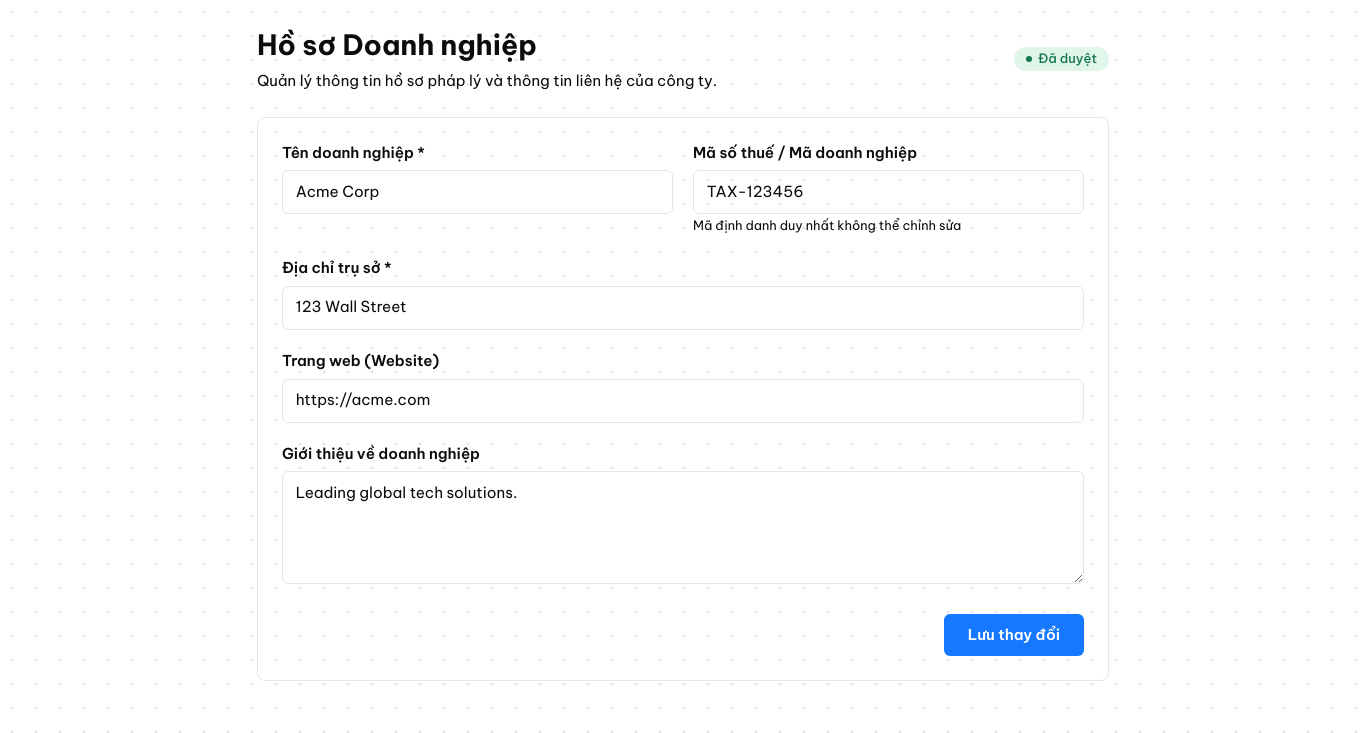
Test: CompanyDetailPage (UI16) › FE29 & BR01: handles 409 Conflict by preserving user input and offering reload
This screenshot has width=1366, height=733.
Replace the text in the field with test id "company-name-input" with "New Name Edited by User" at (478, 192), box top-left (282, 170), bottom-right (673, 214)
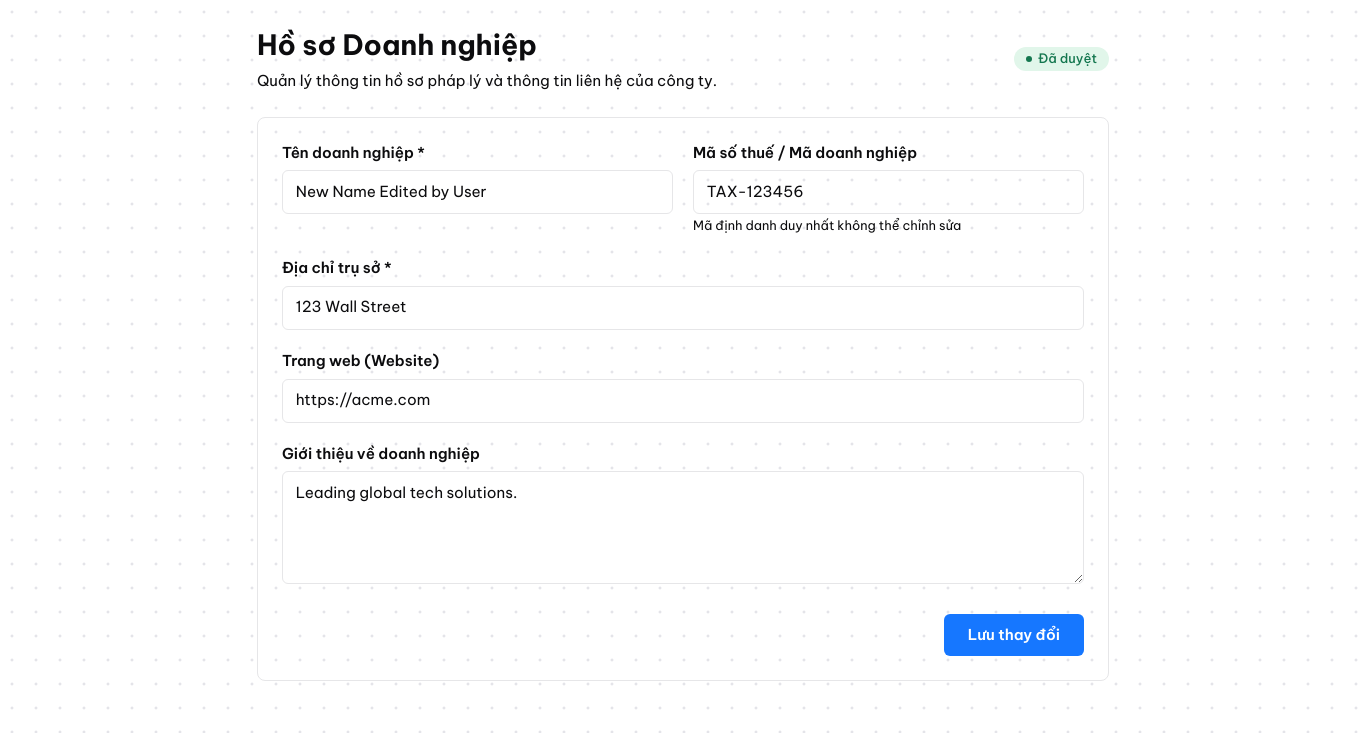
Click the button with test id "save-company-btn" at (1014, 635), box top-left (944, 614), bottom-right (1084, 656)
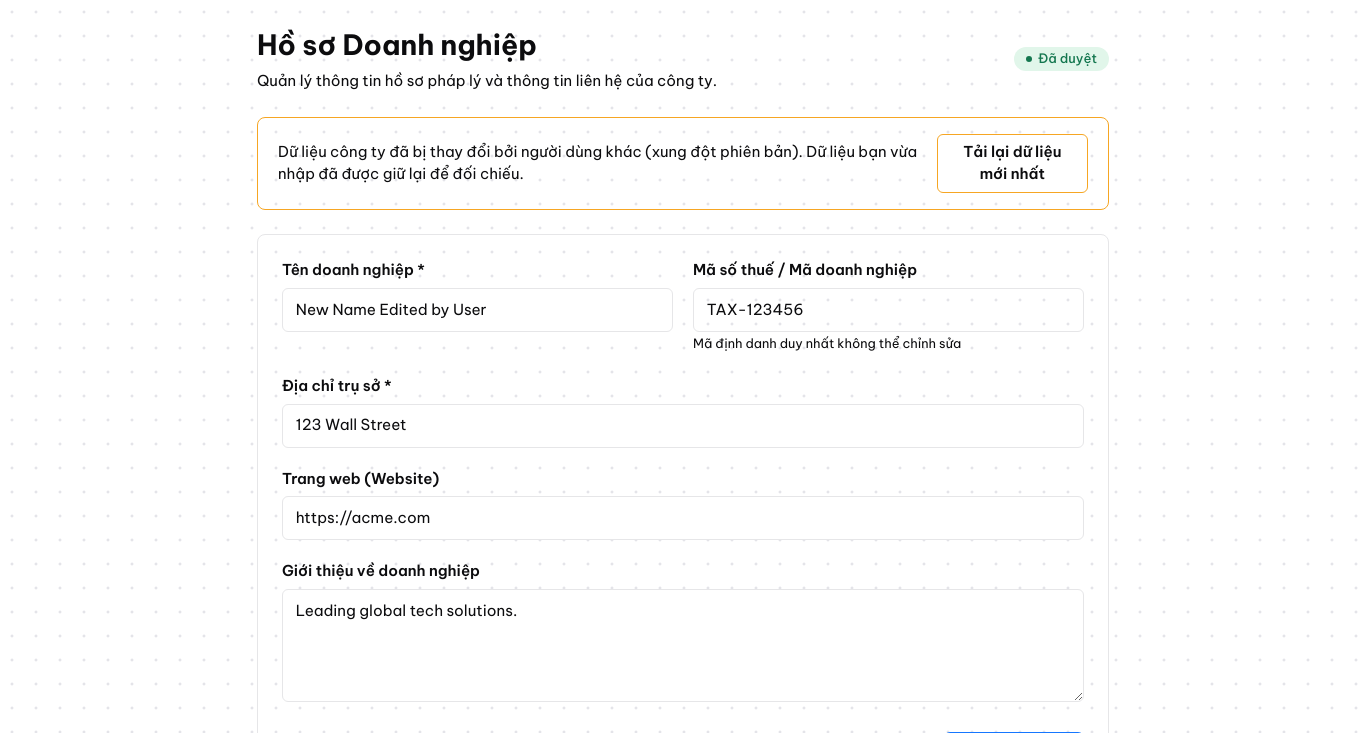
Check: the element with test id "conflict-alert" is shown, box top-left (257, 116), bottom-right (1109, 210)
Click the button with test id "reload-latest-btn" at (1012, 163), box top-left (937, 134), bottom-right (1088, 193)
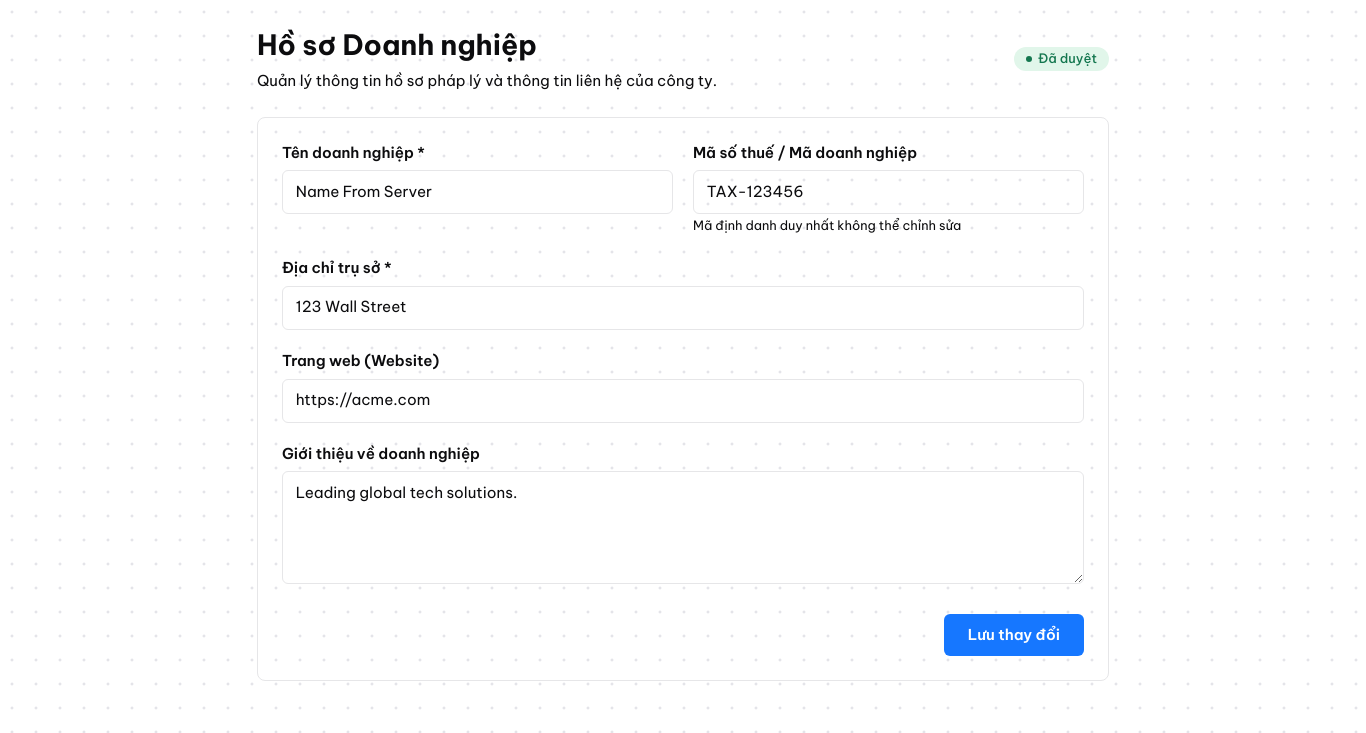
Check: the field with test id "company-name-input" holds "Name From Server", box top-left (282, 170), bottom-right (673, 214)
